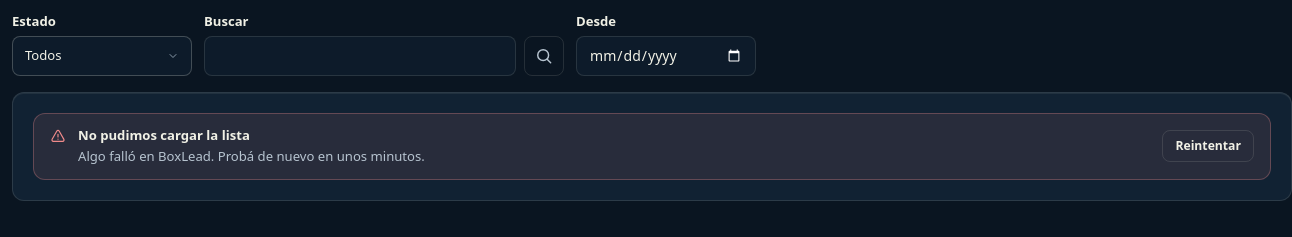
Scenario: ListView › shows the error and loads again on retry
Expected: the text "No pudimos cargar la lista" is shown, [78,126,250,144]
Click the button "Reintentar".
click(1208, 146)  # box [1162,130,1254,162]
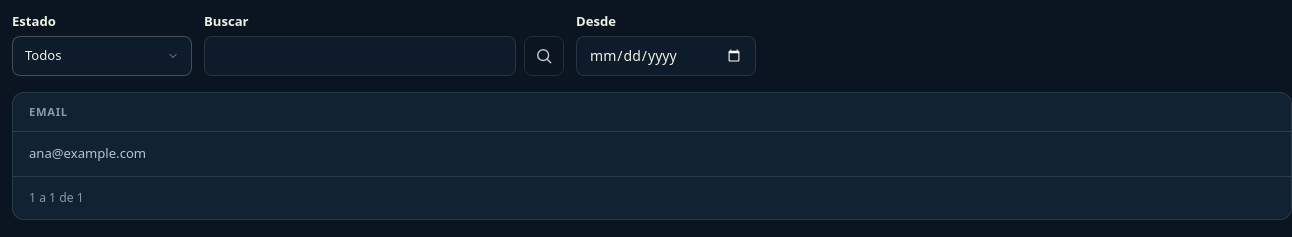
Now the cell "ana@example.com" is shown, box [13,132,1291,176]
Now the text "1 a 1 de 1" is shown, box [29,189,84,207]
